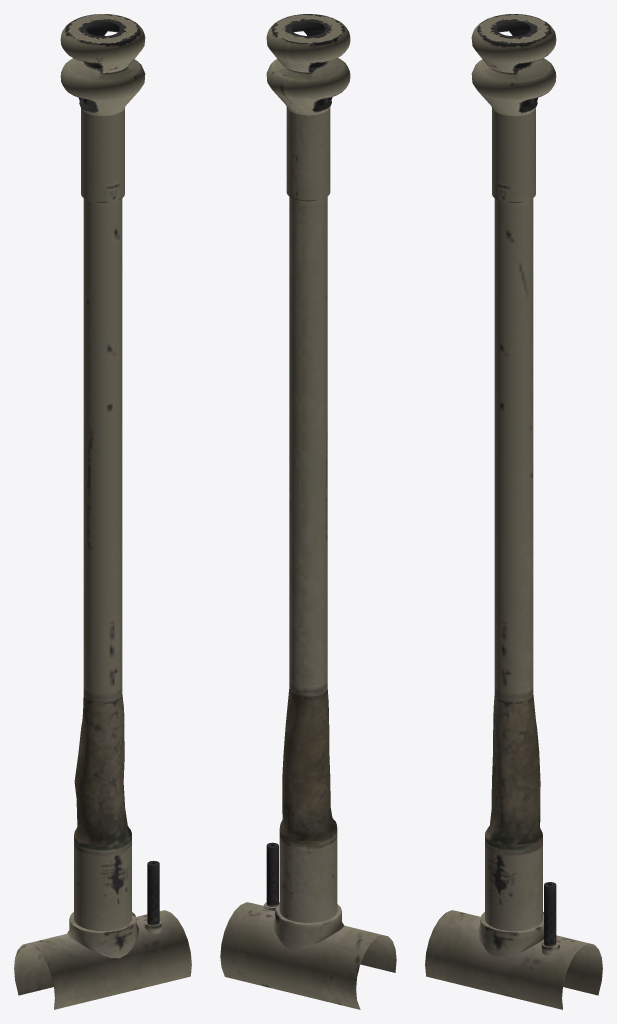
File: Gun_01.glb
3 renders of one model, left to right at view 1: azimuth 30°, elevation 25°; view 2: azimuth 150°, elevation 25°; view 3: azimuth 330°, elevation 25°, orthographic.
Visible parts, largest first — view 1: set_0_group_0; view 2: set_0_group_0; view 3: set_0_group_0.
Boxes of the visible parts, x1,y1,x2,y2 form: set_0_group_0: [14, 14, 191, 1009]; set_0_group_0: [220, 14, 396, 1009]; set_0_group_0: [425, 14, 602, 1009].
Bounding box in the file's own units: 0.6 × 4.02 × 0.3221.
Materials: 1 (1 with a texture image).
